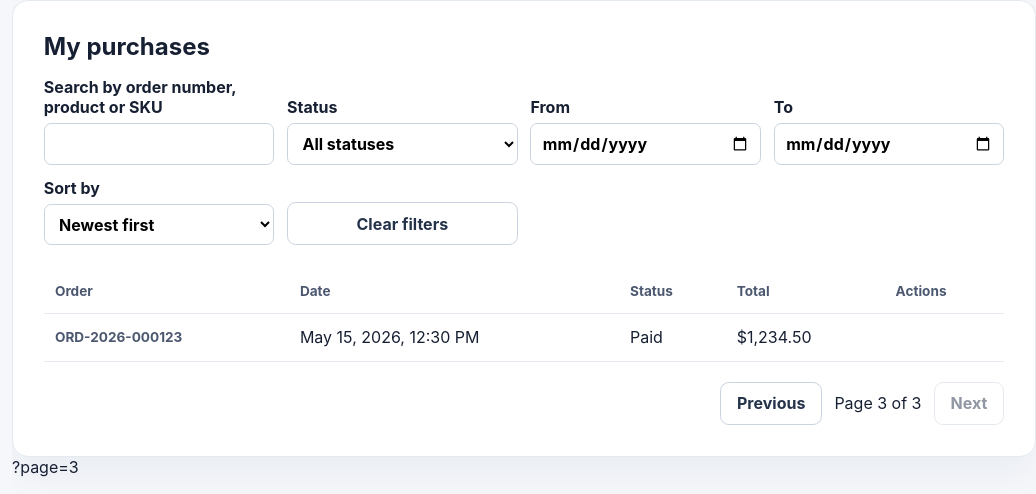
Scenario: my purchases page › resets to the first page when a filter changes
Expected: the link "ORD-2026-000123" is shown, [55,329,182,345]
Select "Paid" in the dropdown labelled "Status" at (402, 144), box [287,123,518,165]
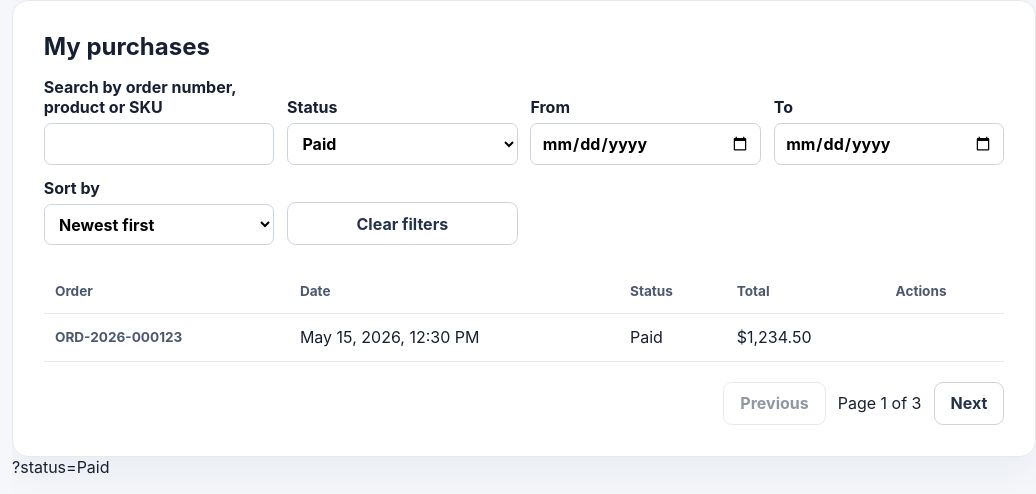
Expected: the text with test id "location" reads "?status=Paid", [12,457,110,477]
